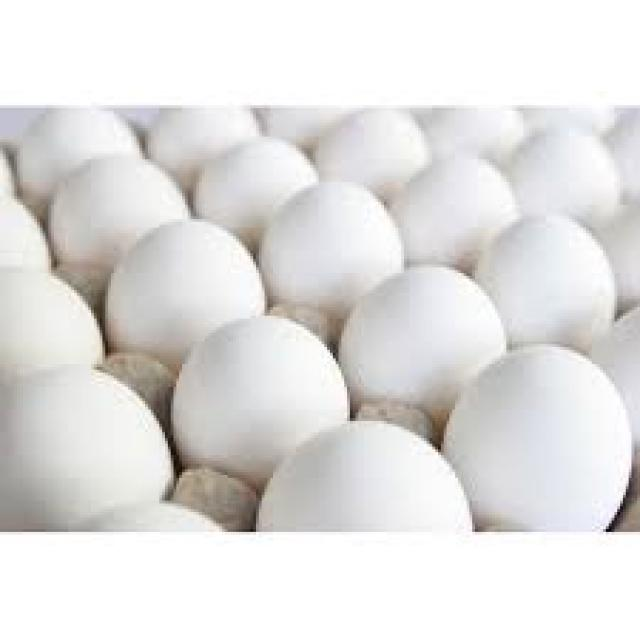White Egg: (446, 344, 640, 560), (262, 402, 469, 576), (332, 250, 542, 412), (175, 306, 368, 473), (259, 180, 446, 345), (96, 218, 232, 346), (42, 152, 184, 259)
